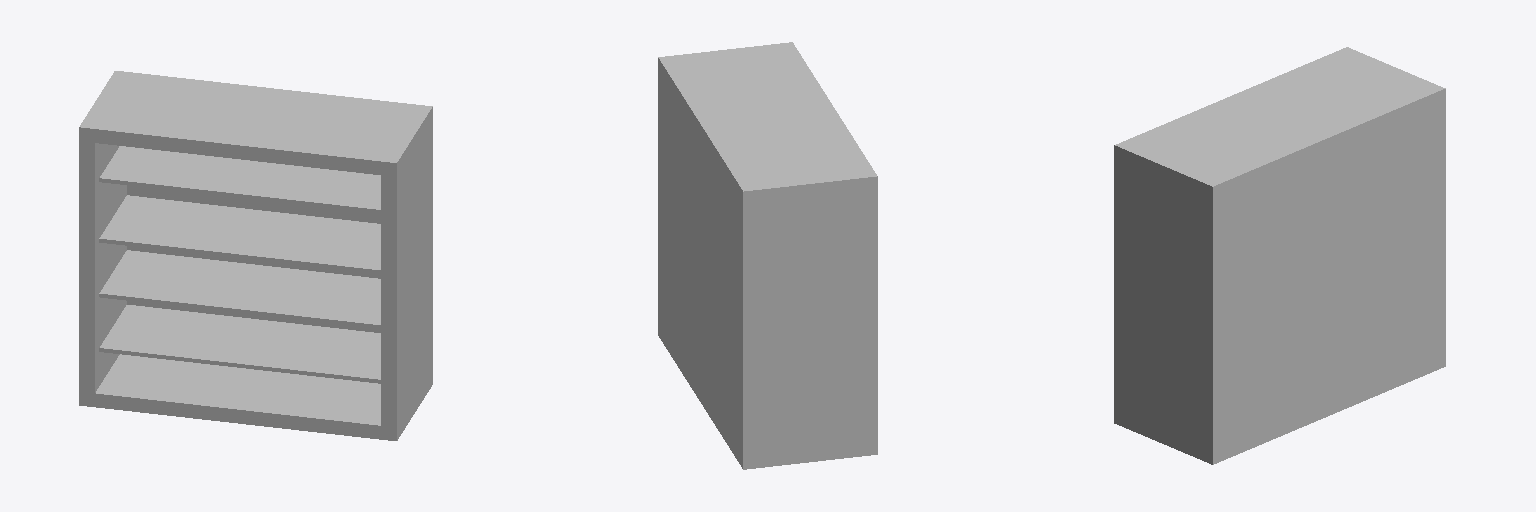
File: Fridge.obj
The picture shows the model from 3 angles: view 1: azimuth 30°, elevation 25°; view 2: azimuth 150°, elevation 25°; view 3: azimuth 270°, elevation 25°; orthographic projection.
Visible parts, largest first — view 1: Fridge; view 2: Fridge; view 3: Fridge.
Boxes of the visible parts, x1,y1,x2,y2 form: Fridge: [79, 71, 432, 440]; Fridge: [658, 42, 877, 469]; Fridge: [1114, 47, 1445, 464].
Bounding box in the file's own units: 0.7547 × 0.7 × 0.7547.